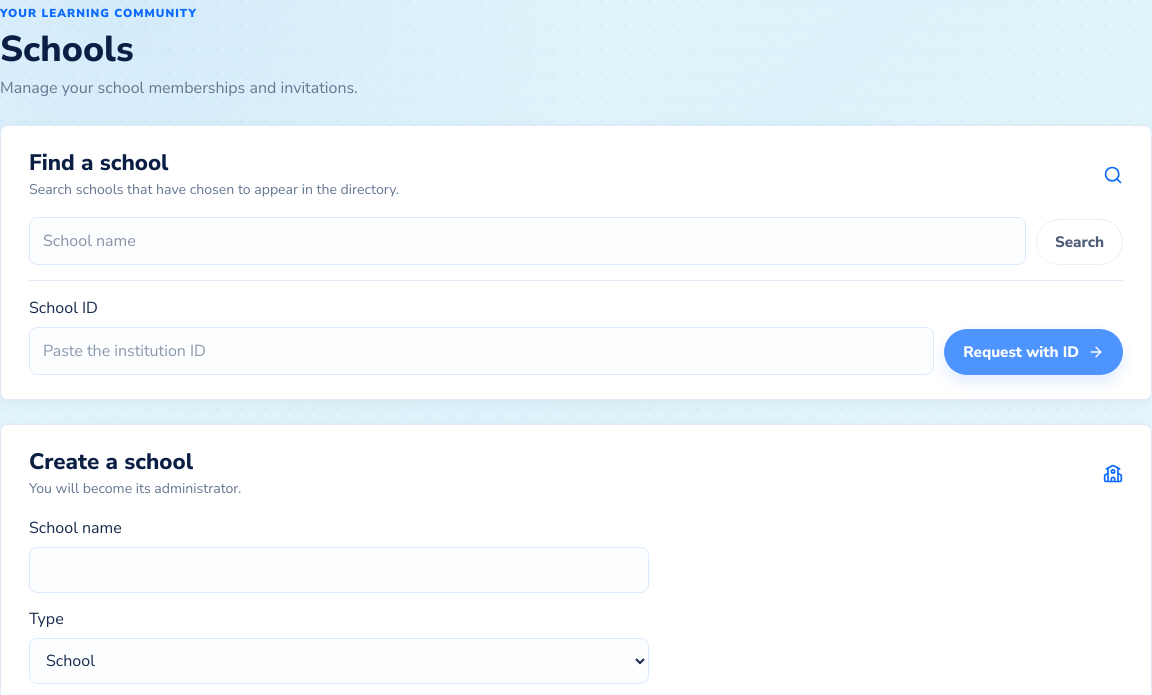
Test: SchoolsPage › searches the listed directory and shows the real pending request status
This screenshot has width=1152, height=695.
Type "Northside" into the field named "Search schools" at (528, 241), box x1=29 y1=217 x2=1026 y2=265
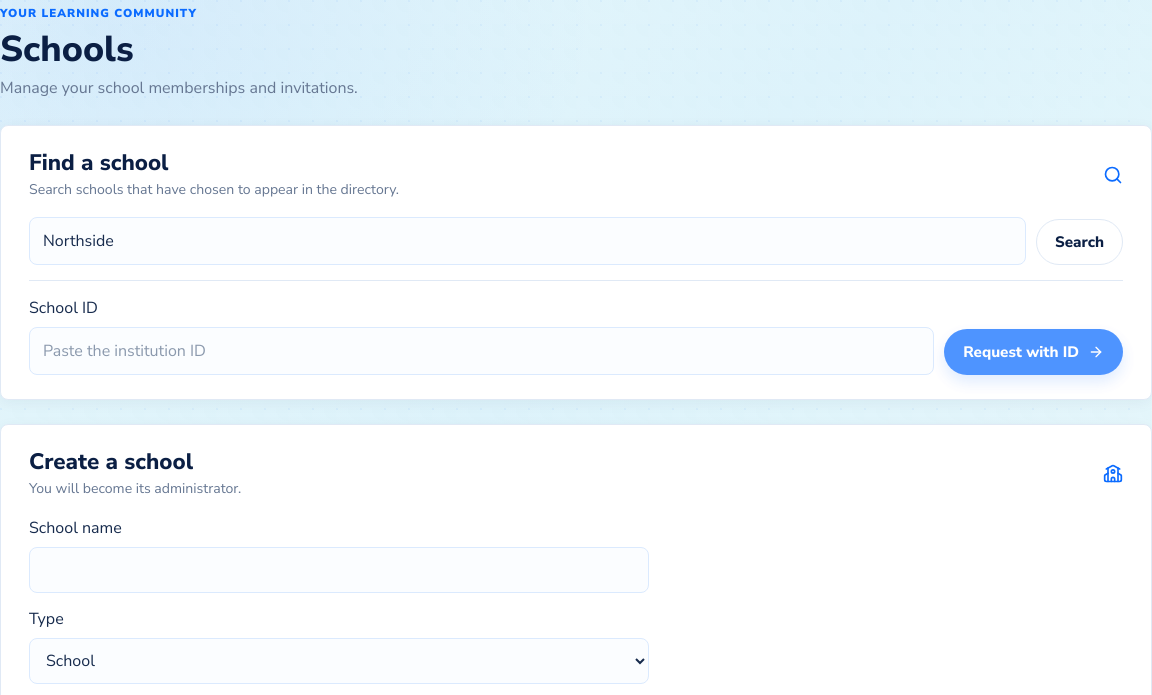
Click the button "Search" at (1080, 242), box x1=1036 y1=219 x2=1123 y2=265
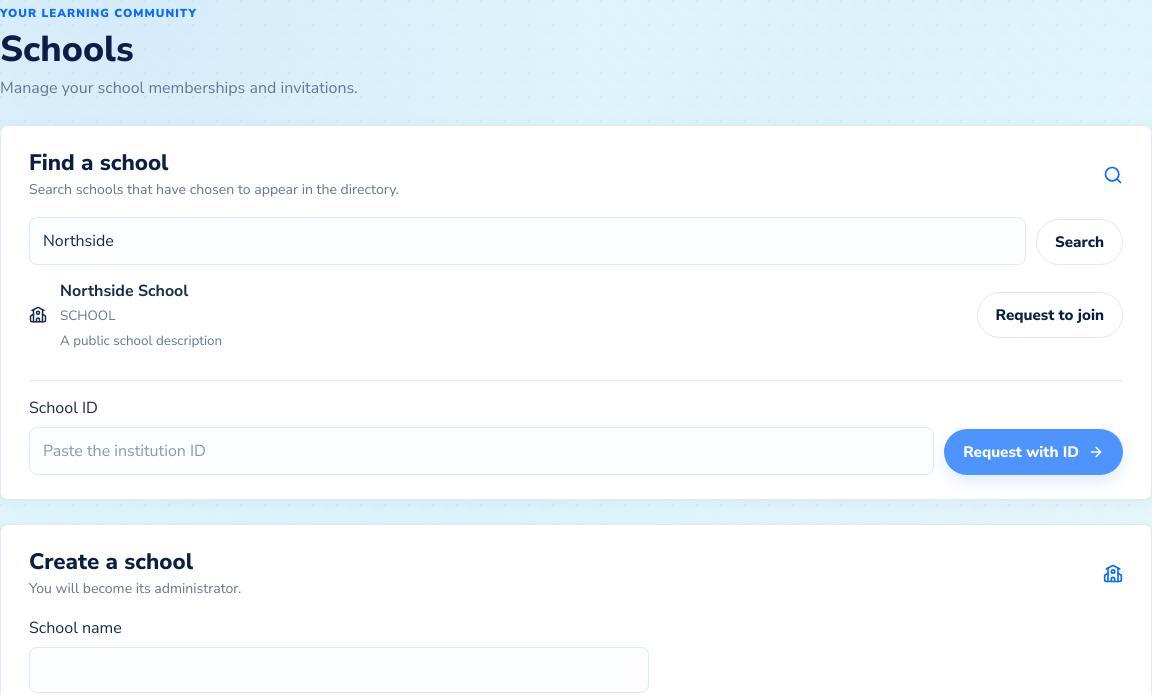
Click the button "Request to join" at (1050, 315), box x1=976 y1=292 x2=1123 y2=338
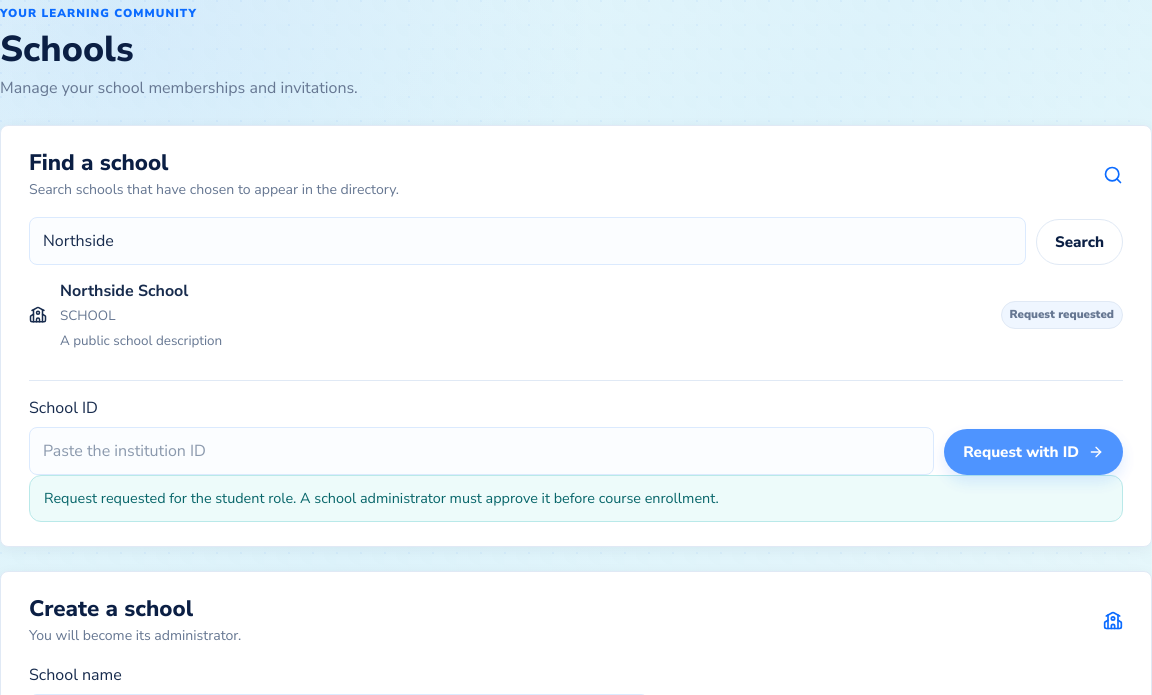
Expected: the text "Request requested" is shown, x1=1000 y1=302 x2=1123 y2=329
